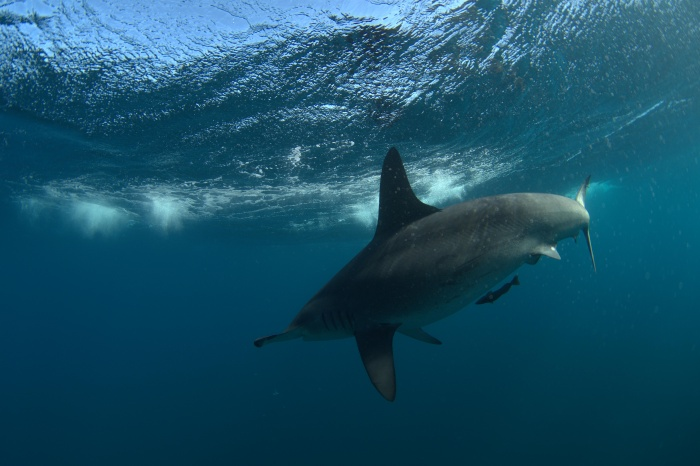Hammer: (212, 128, 644, 419)
